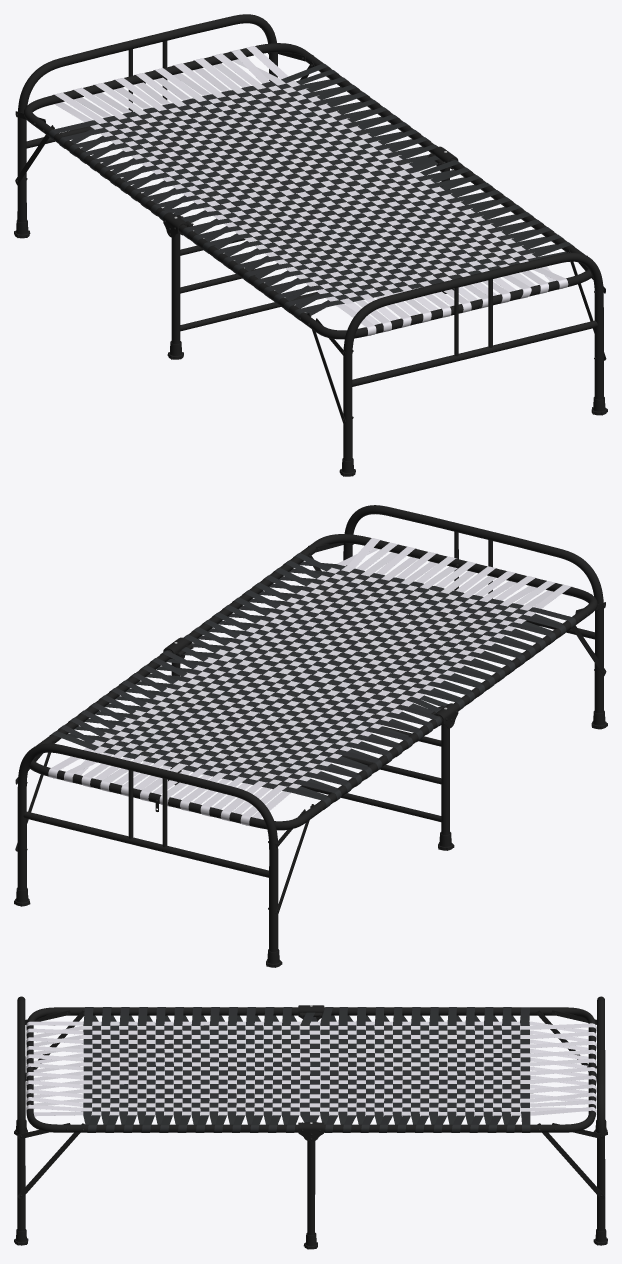
File: steel-cot.glb
3 renders of one model, top to bottom at view 1: azimuth 30°, elevation 25°; view 2: azimuth 150°, elevation 25°; view 3: azimuth 270°, elevation 25°, orthographic. The views are drawn at different scales.
Visible parts, largest first — view 1: polySurface1407; view 2: polySurface1407; view 3: polySurface1407.
Boxes of the visible parts, x1,y1,x2,y2 form: polySurface1407: (14, 14, 607, 476); polySurface1407: (14, 505, 607, 967); polySurface1407: (14, 996, 607, 1249).
Size of the model in its own units: 0.8837 by 0.5002 by 1.8.
Materials: 1 (1 with a texture image).
